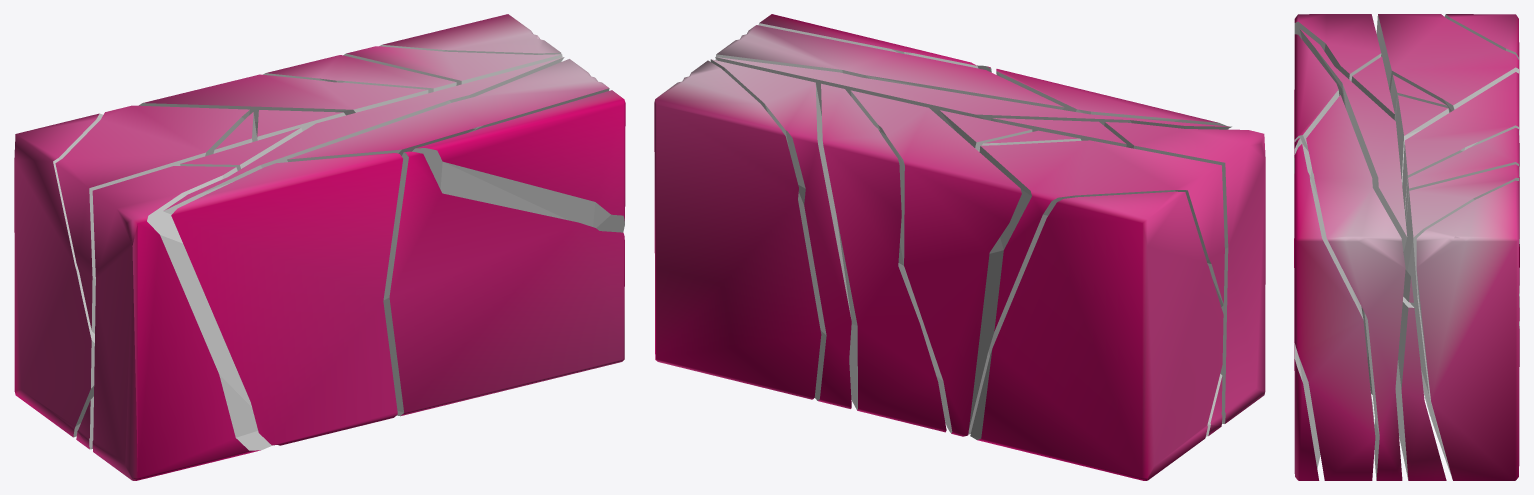
File: Container(4).glb
3 renders of one model, left to right at view 1: azimuth 30°, elevation 25°; view 2: azimuth 150°, elevation 25°; view 3: azimuth 270°, elevation 25°, orthographic. The views are drawn at different scales.
Parts seen in each view (by area): view 1: Root.010, Root.002, Root, Root.001, Root.014, Root.009, Root.006, Root.007, Root.012, Root.003, Root.011, Root.015 (+3 smaller); view 2: Root.001, Root.011, Root.007, Root.015, Root.009, Root, Root.003, Root.006, Root.012, Root.010, Root.014, Root.008 (+2 smaller); view 3: Root.011, Root.014, Root.006, Root.009, Root.007, Root.012, Root.003, Root.004, Root, Root.010, Root.015, Root.002 (+4 smaller).
Boxes of the visible parts, <box> form: Root.010: <box>171,153,402,445</box>; Root.002: <box>383,151,624,416</box>; Root: <box>92,166,272,480</box>; Root.001: <box>14,113,102,437</box>; Root.014: <box>412,90,625,232</box>; Root.009: <box>55,105,249,333</box>; Root.006: <box>287,59,609,161</box>; Root.007: <box>139,74,428,137</box>; Root.012: <box>163,57,564,214</box>; Root.003: <box>343,46,562,85</box>; Root.011: <box>379,14,561,54</box>; Root.015: <box>263,55,456,93</box>; Root.001: <box>970,191,1223,480</box>; Root.011: <box>654,60,821,399</box>; Root.007: <box>850,90,1021,436</box>; Root.015: <box>821,83,946,432</box>; Root.009: <box>968,140,1224,434</box>; Root: <box>1104,122,1265,423</box>; Root.003: <box>710,59,851,408</box>; Root.006: <box>715,25,1064,109</box>; Root.012: <box>715,57,1231,129</box>; Root.010: <box>996,69,1228,129</box>; Root.014: <box>758,14,978,68</box>; Root.008: <box>991,118,1126,146</box>; Root.011: <box>1416,180,1519,480</box>; Root.014: <box>1294,144,1375,480</box>; Root.006: <box>1306,95,1405,480</box>; Root.009: <box>1376,14,1519,176</box>; Root.007: <box>1402,72,1519,325</box>; Root.012: <box>1299,29,1413,302</box>; Root.003: <box>1403,164,1519,474</box>; Root.004: <box>1367,297,1446,480</box>; Root: <box>1294,14,1381,267</box>; Root.010: <box>1294,34,1339,370</box>; Root.015: <box>1405,128,1519,421</box>; Root.002: <box>1294,138,1320,480</box>.
Size of the model in its own units: 3.49 by 1.77 by 1.48.
